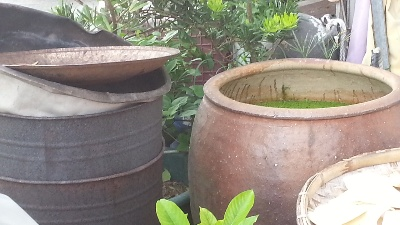bowl: (187, 54, 400, 224), (1, 1, 177, 118)
plate: (1, 40, 182, 86)
